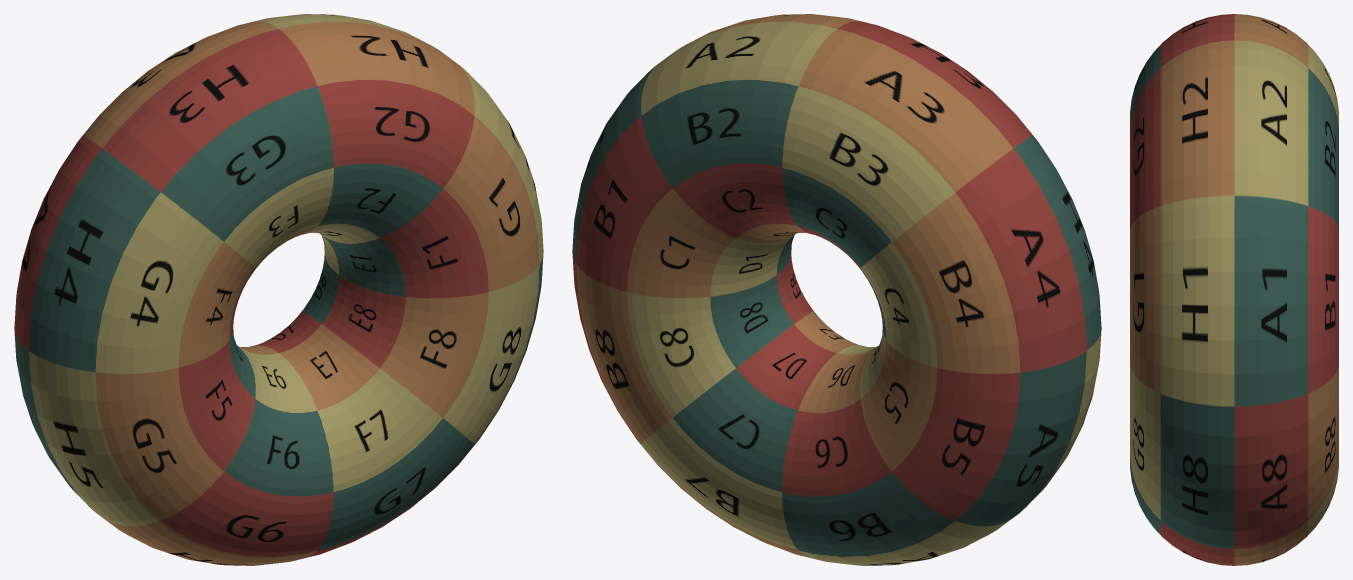
The model's file is texture_torus_R3_r20.glb.
The picture shows the model from 3 angles, left to right: view 1: azimuth 30°, elevation 25°; view 2: azimuth 150°, elevation 25°; view 3: azimuth 270°, elevation 25°; orthographic projection. The views are drawn at different scales.
Parts seen in each view (by area): view 1: world; view 2: world; view 3: world.
Part boxes in pixels (box(x1,y1,x2,y2)): world: box(14, 14, 543, 565); world: box(572, 14, 1101, 565); world: box(1130, 14, 1338, 565).
Size of the model in its own units: 19.33 by 19.3 by 7.32.
Materials: 1 (1 with a texture image).
